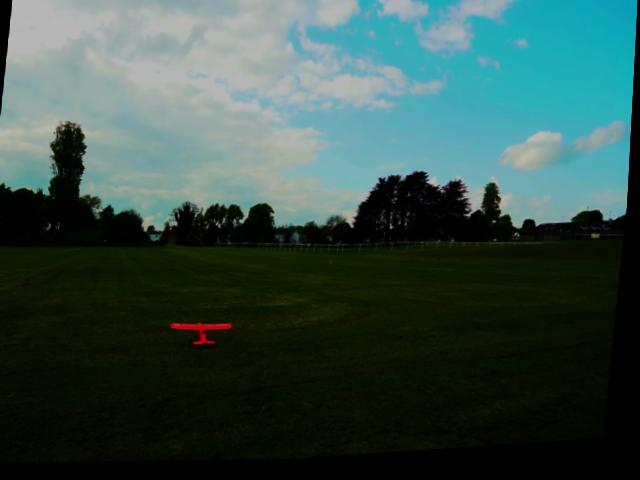plane: (171, 320, 235, 352)
